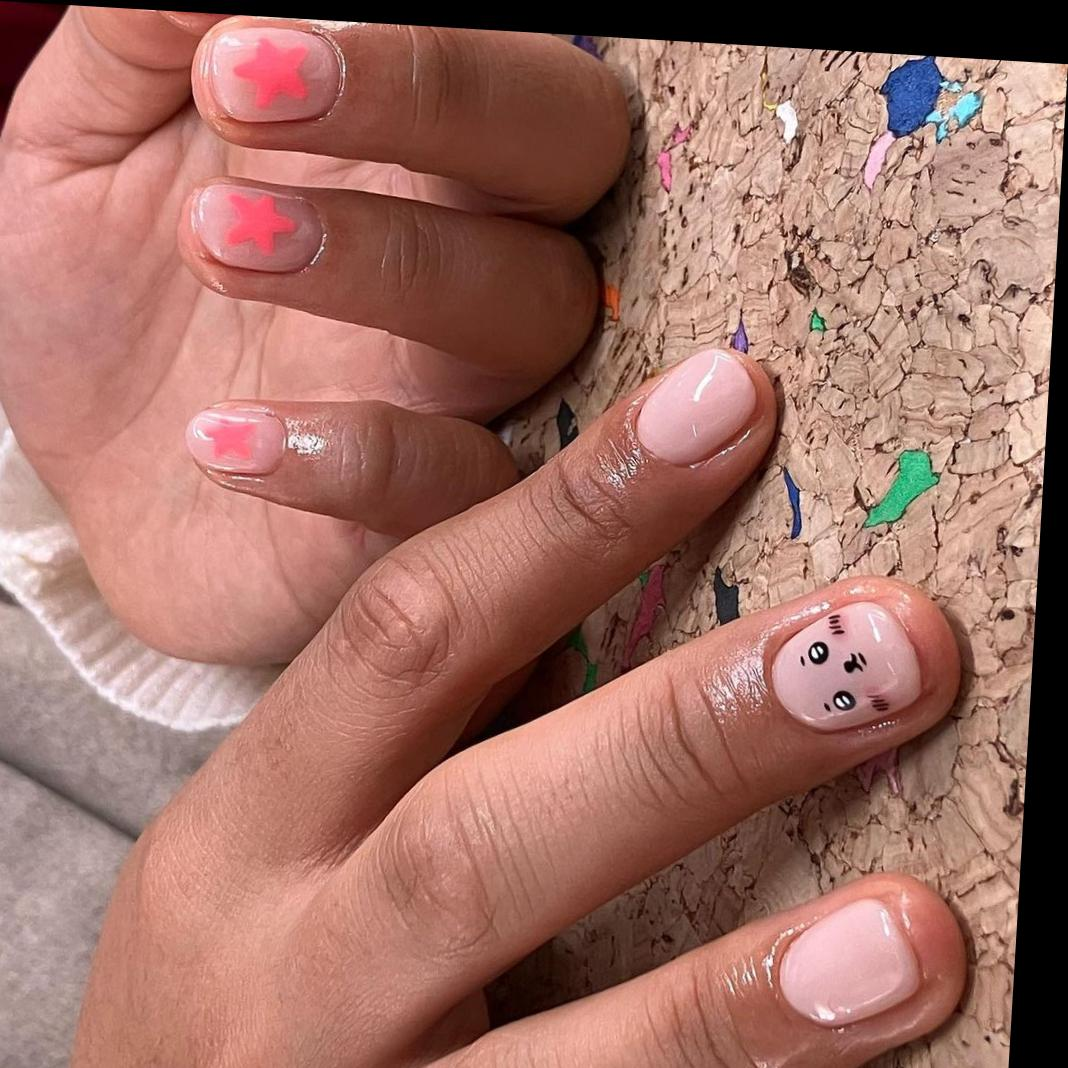nail: (763, 595, 928, 740), (772, 891, 926, 1033), (195, 16, 347, 131), (631, 342, 762, 471), (185, 181, 327, 277), (182, 399, 288, 478)
